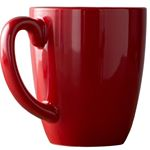cups: (1, 4, 149, 148)
